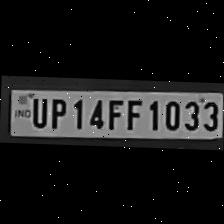0: (159, 96, 181, 130)
1: (142, 95, 162, 130), (66, 94, 86, 128)
3: (198, 96, 220, 131), (182, 96, 200, 130)
4: (84, 94, 106, 129)
F: (121, 94, 143, 129), (104, 95, 124, 129)
P: (46, 94, 68, 128)
U: (28, 92, 48, 127)
